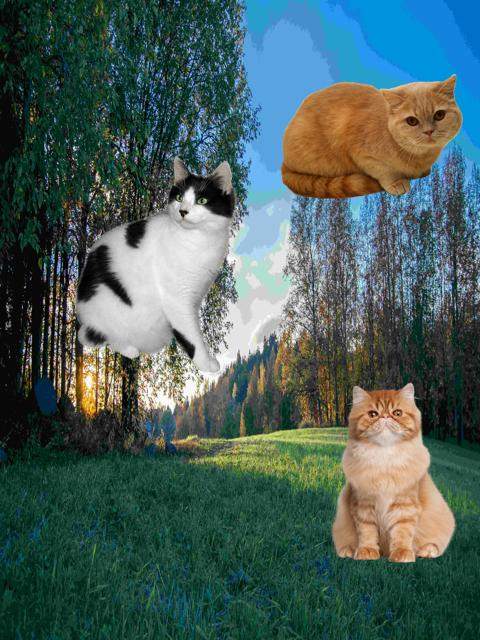cat: (74, 149, 239, 375), (327, 382, 460, 562), (282, 76, 466, 201)
